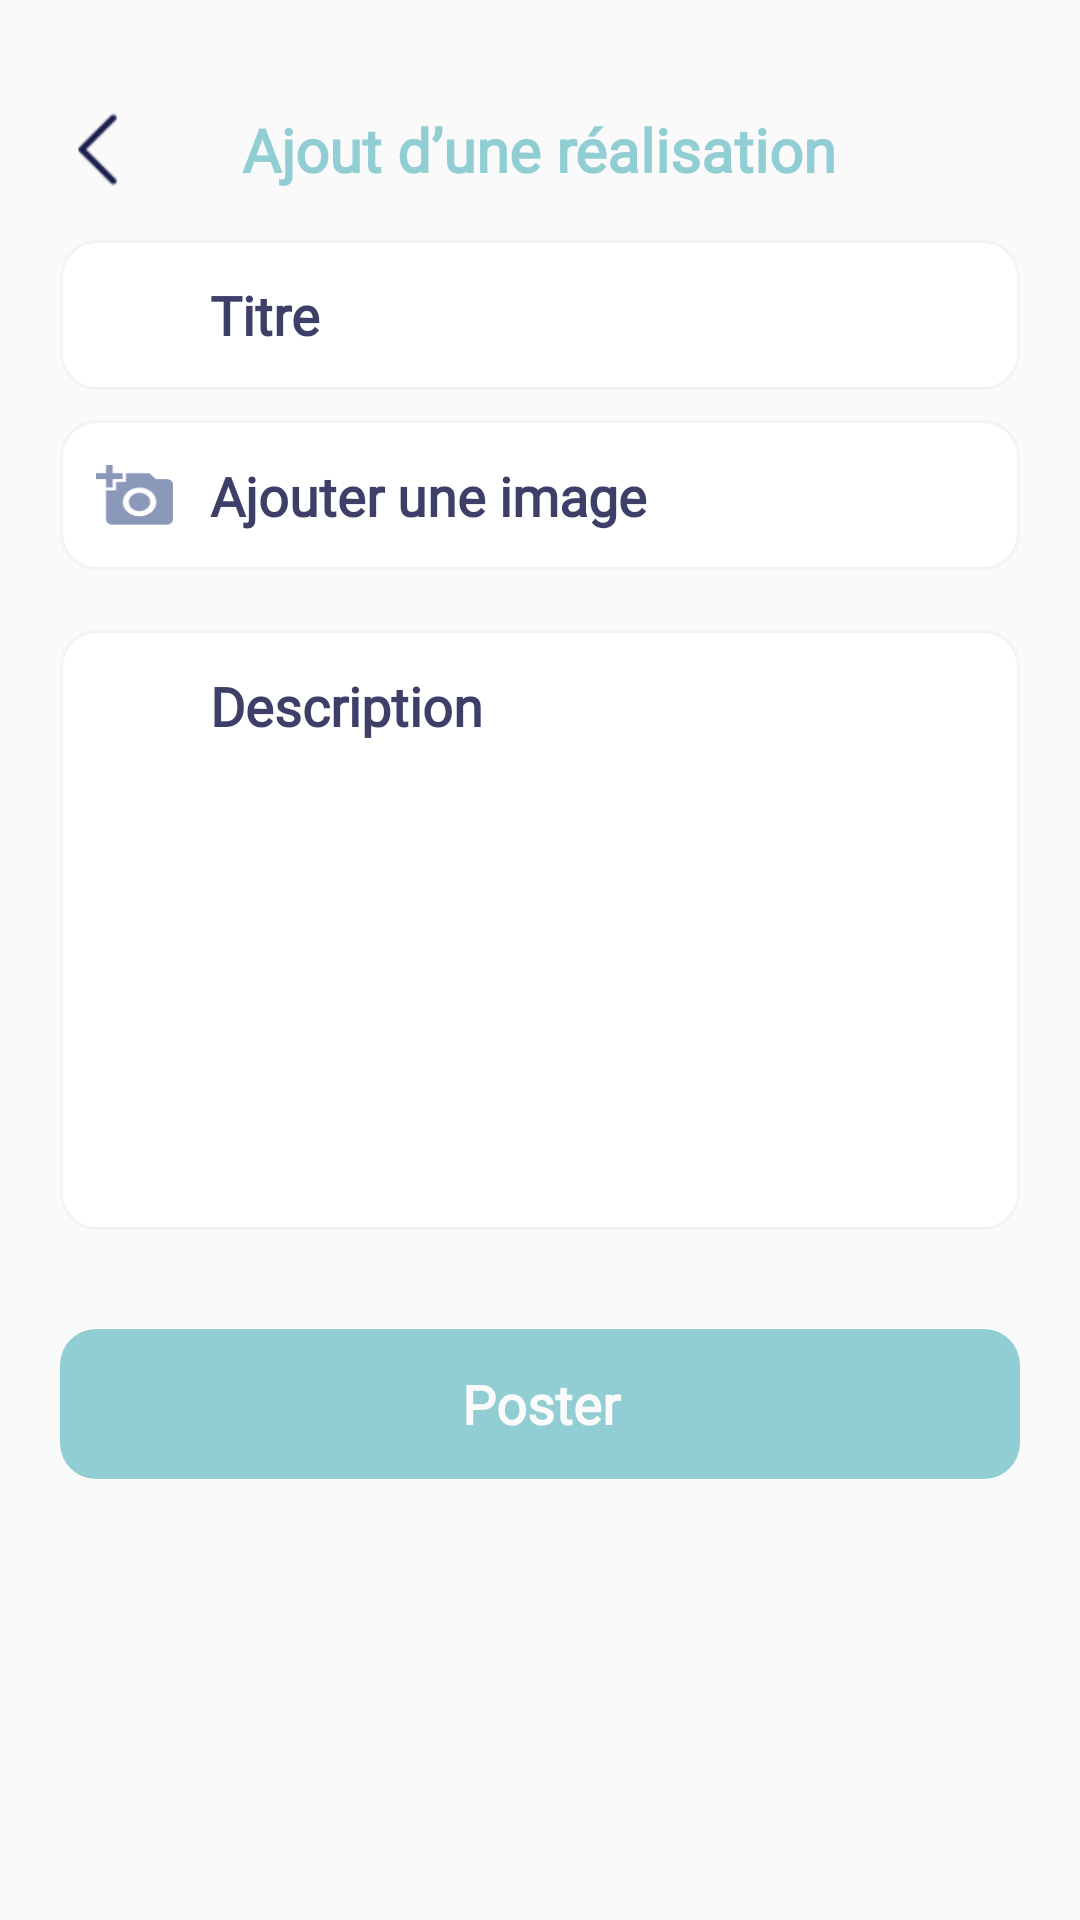

Screen size 1080px x 1920px. Icon name, then its center in pixels as (x,y):
add photo: (134,495)
blackback: (97,149)
